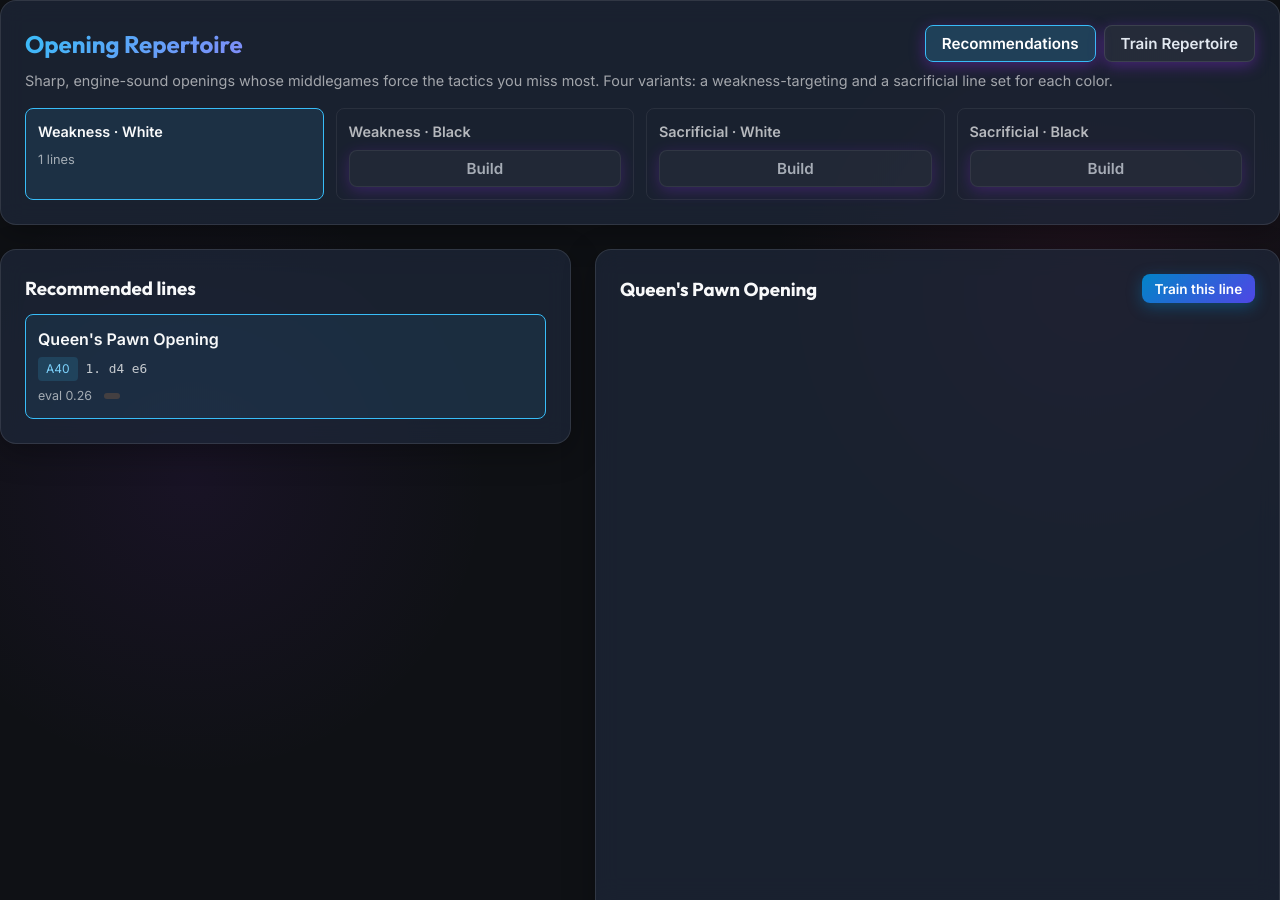
Test: RepertoireTrainer Integration & Edge-Case Tests › 1. Renders loading state while tree fetch is pending
This screenshot has width=1280, height=900.
Click the button "Train Repertoire". click: [1179, 44]
box: x1=1104 y1=25 x2=1255 y2=62
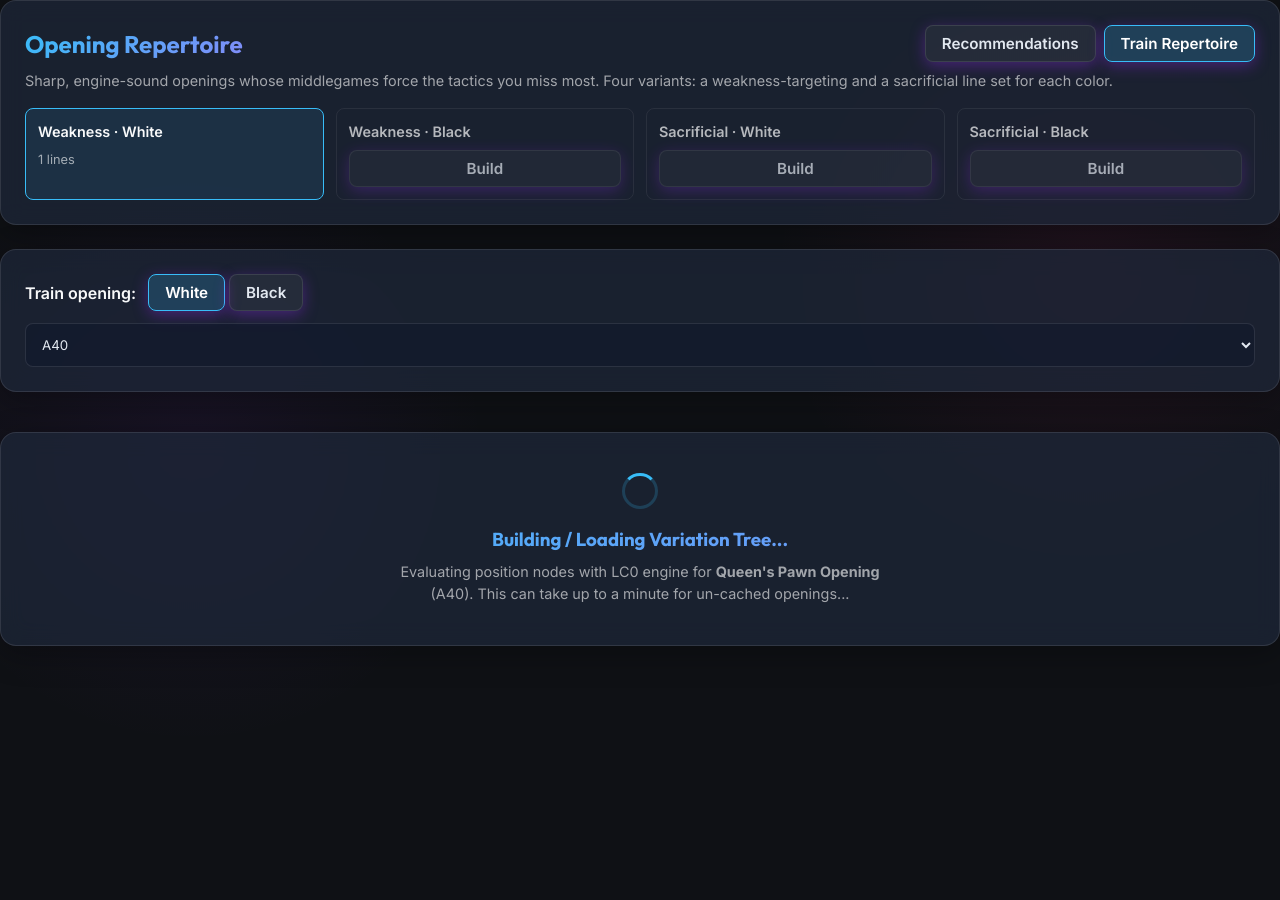
Expected: the heading "Building / Loading Variation Tree..." is shown, x1=41 y1=525 x2=1239 y2=553
